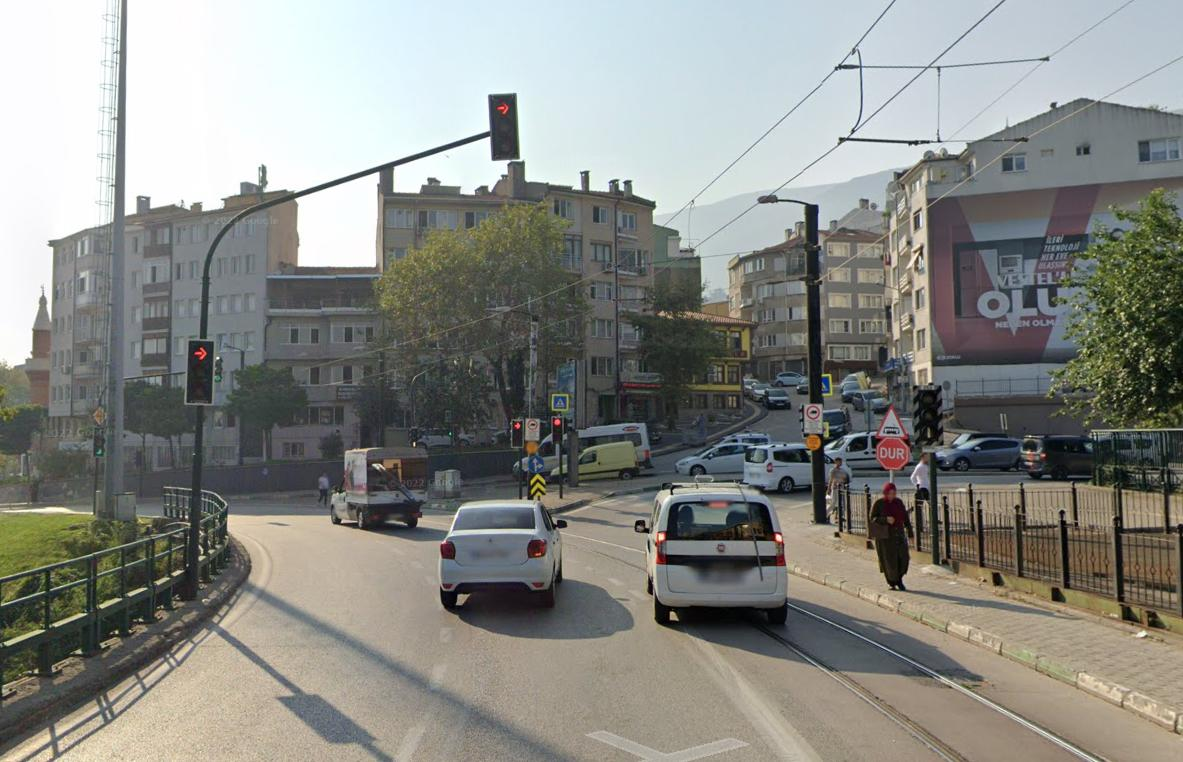redlight: (485, 89, 525, 163), (184, 337, 217, 409), (509, 416, 526, 451), (549, 414, 567, 446)
stop: (876, 437, 911, 473)
